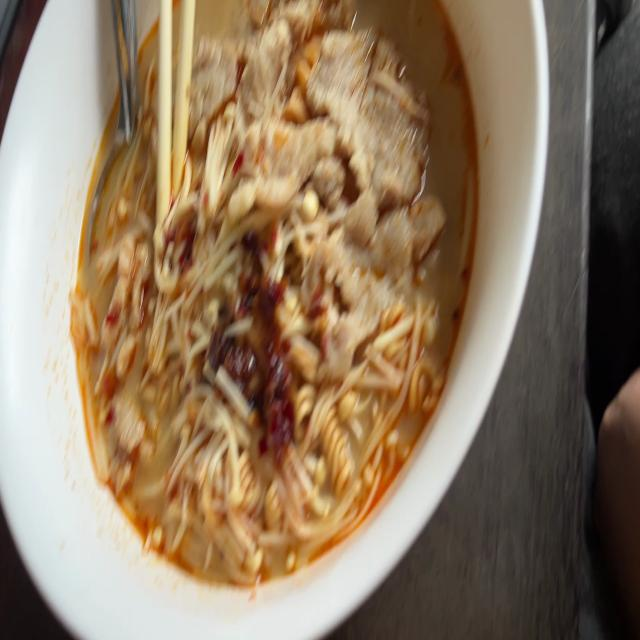noodle: (51, 0, 504, 602)
